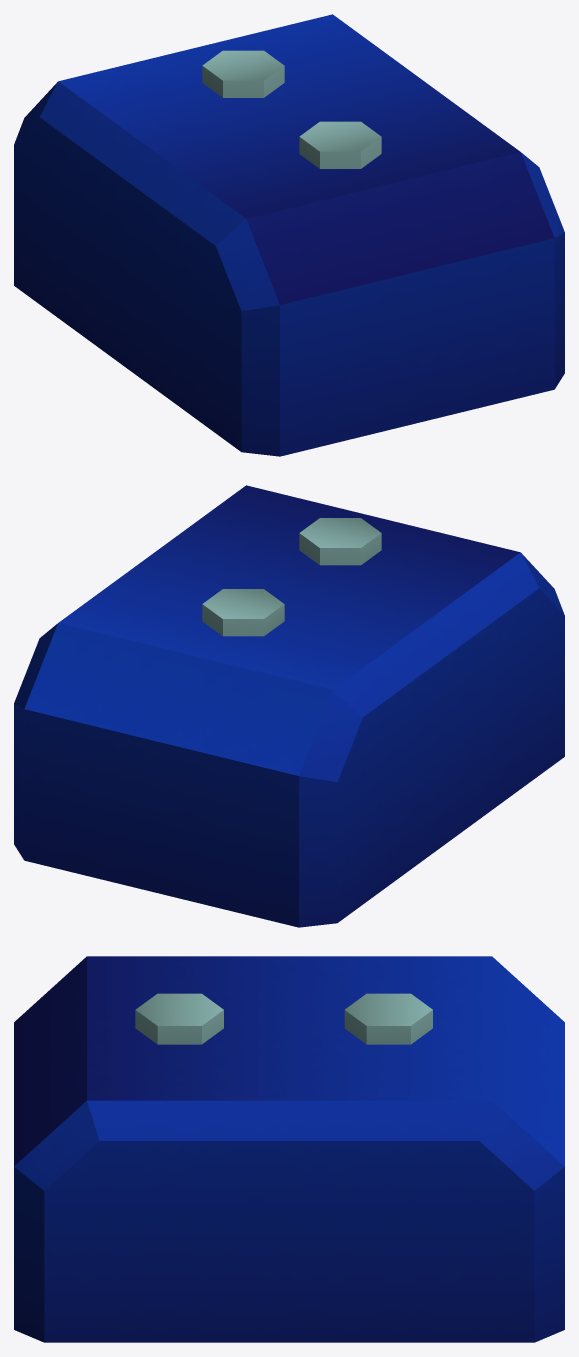
3 renders of one model, top to bottom at view 1: azimuth 30°, elevation 25°; view 2: azimuth 150°, elevation 25°; view 3: azimuth 270°, elevation 25°, orthographic. The views are drawn at different scales.
Visible parts, largest first — view 1: object; view 2: object; view 3: object.
Boxes of the visible parts, x1,y1,x2,y2 form: object: [14, 14, 564, 456]; object: [14, 485, 564, 927]; object: [14, 956, 564, 1342].
Size of the model in its own units: 43.94 by 29.88 by 60.17.
